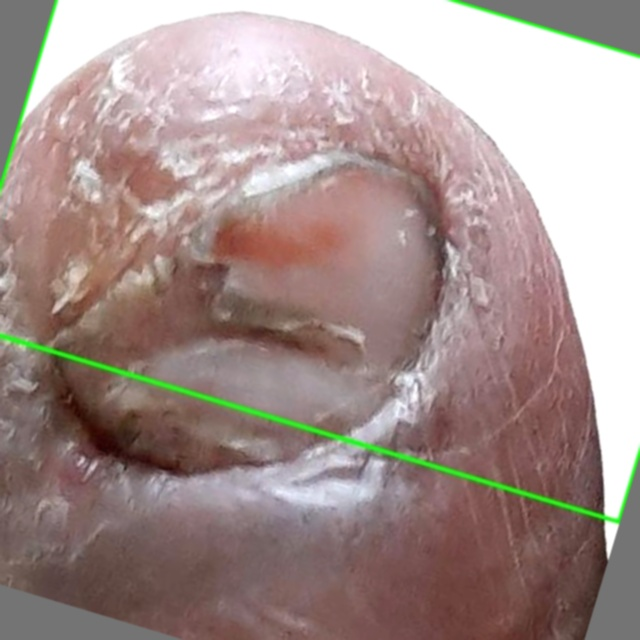Contact Dermatitis: (0, 0, 639, 522)
